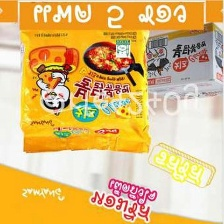snack: (15, 29, 154, 161)
